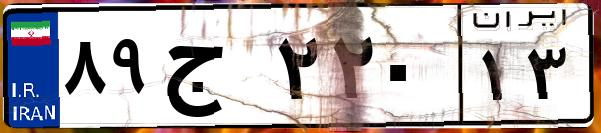0: (385, 28, 445, 110)
1: (475, 38, 525, 113)
2: (270, 28, 330, 110), (330, 28, 385, 110)
3: (525, 38, 570, 115)
8: (57, 26, 110, 100)
9: (110, 28, 158, 98)
ج: (158, 20, 270, 120)
